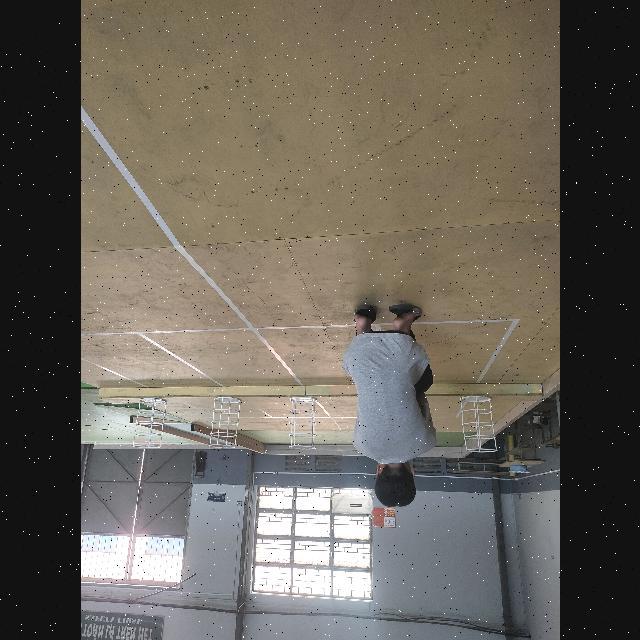S: (458, 395, 498, 454), (131, 398, 167, 449), (207, 397, 241, 449), (287, 396, 317, 450)
